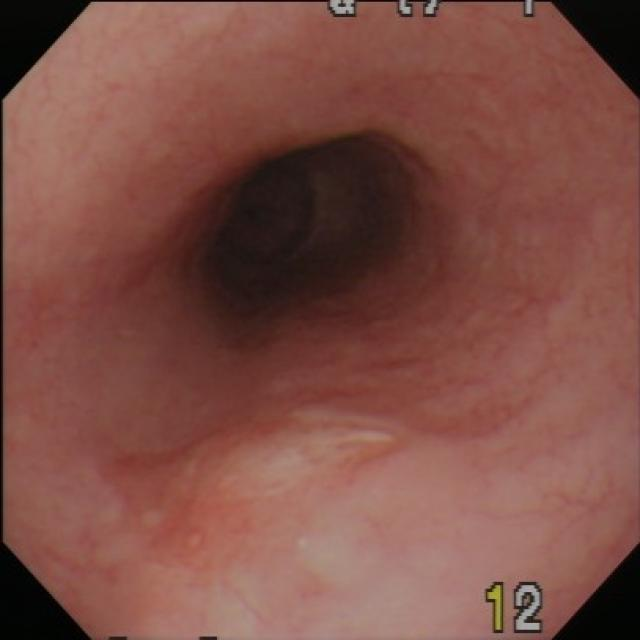A: (100, 407, 424, 573)
E: (212, 133, 416, 316)
S: (485, 581, 547, 636), (325, 3, 545, 18)
